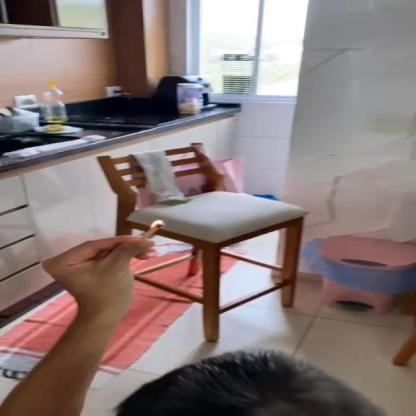fire: (150, 216, 168, 233)
